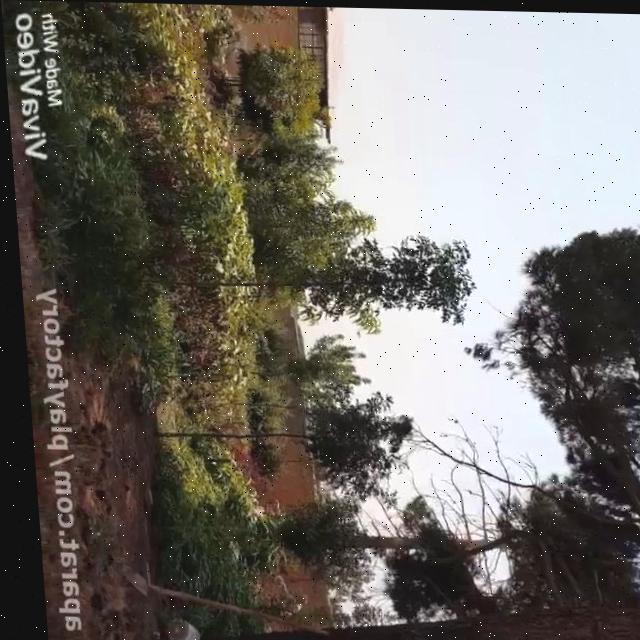drone: (349, 328, 359, 339)
